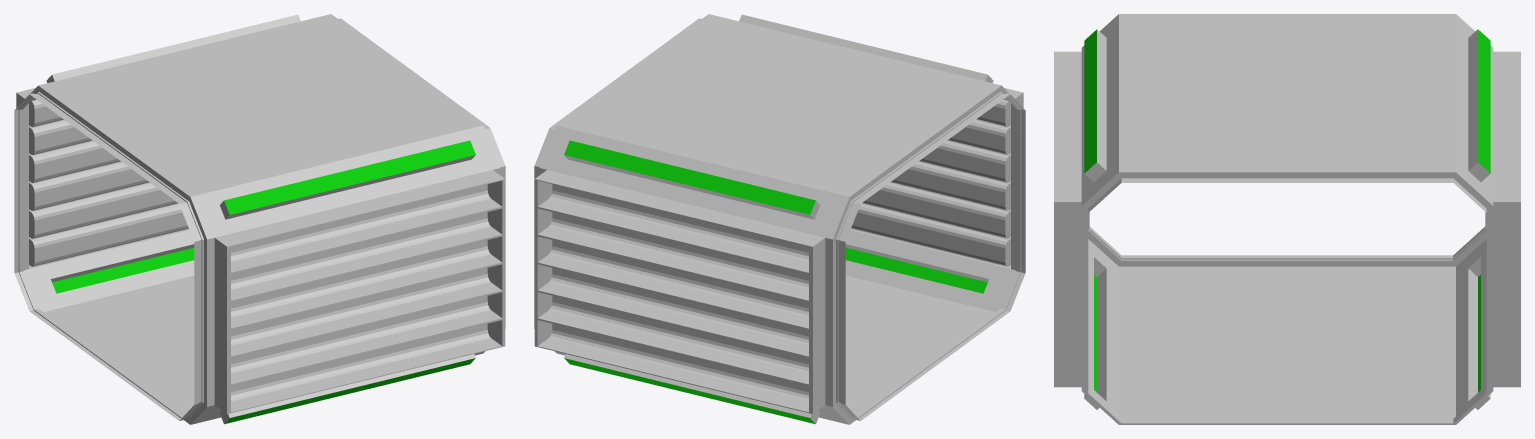
File: Corridor_Straight.obj
The picture shows the model from 3 angles, left to right: view 1: azimuth 30°, elevation 25°; view 2: azimuth 150°, elevation 25°; view 3: azimuth 270°, elevation 25°; orthographic projection. The views are drawn at different scales.
Visible parts, largest first — view 1: Corridor_Straight_Cube.004; view 2: Corridor_Straight_Cube.004; view 3: Corridor_Straight_Cube.004.
Part boxes in pixels (x1,y1,x2,y2): Corridor_Straight_Cube.004: [14, 14, 505, 424]; Corridor_Straight_Cube.004: [534, 14, 1025, 424]; Corridor_Straight_Cube.004: [1054, 14, 1520, 424].
Bounding box in the file's own units: 6 × 4.2 × 7.04.
